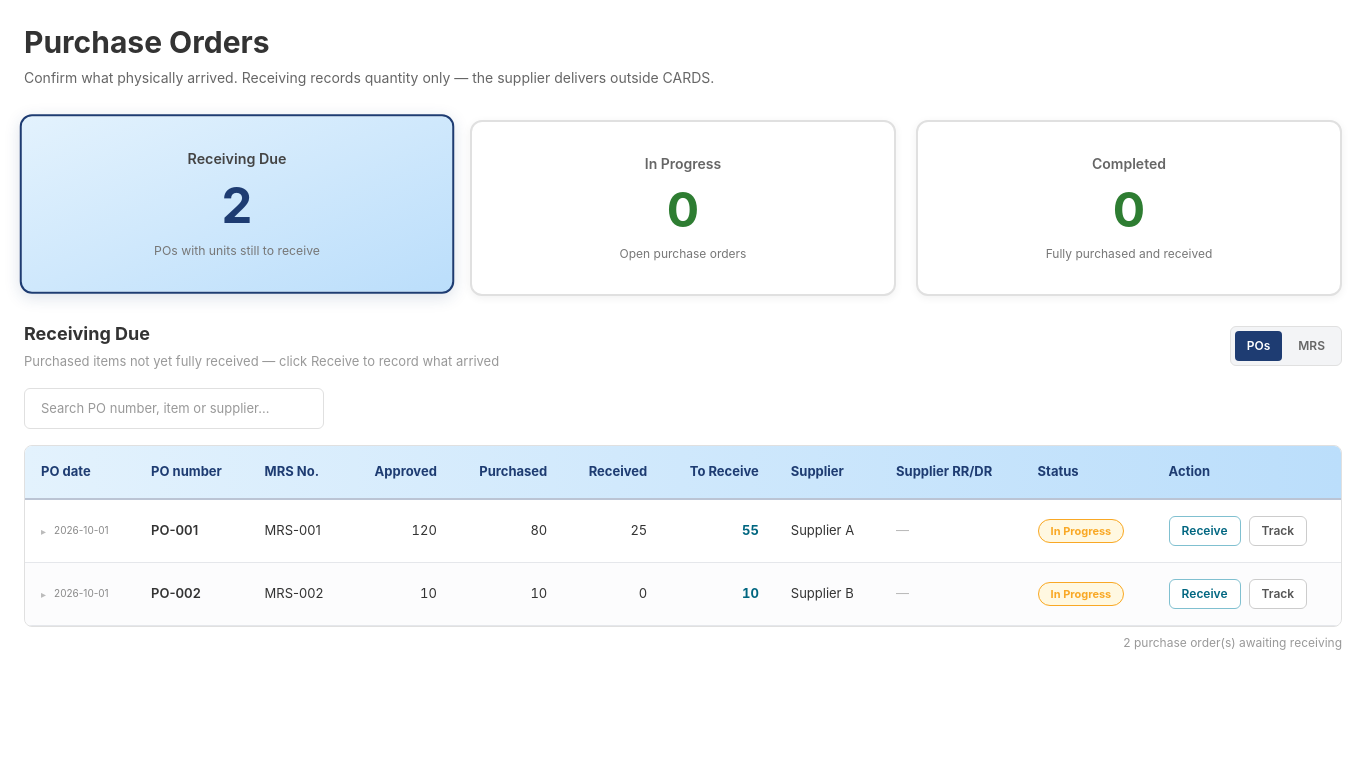
Scenario: Receiving Due is one row per purchase order › expands to the same item columns the quantity tracker uses
Expected: the text "PO-001" is shown, [135,498,249,562]
Click the row named "Expand to see its items".
click(683, 530)  # box [25,498,1341,562]
(page scrolled)
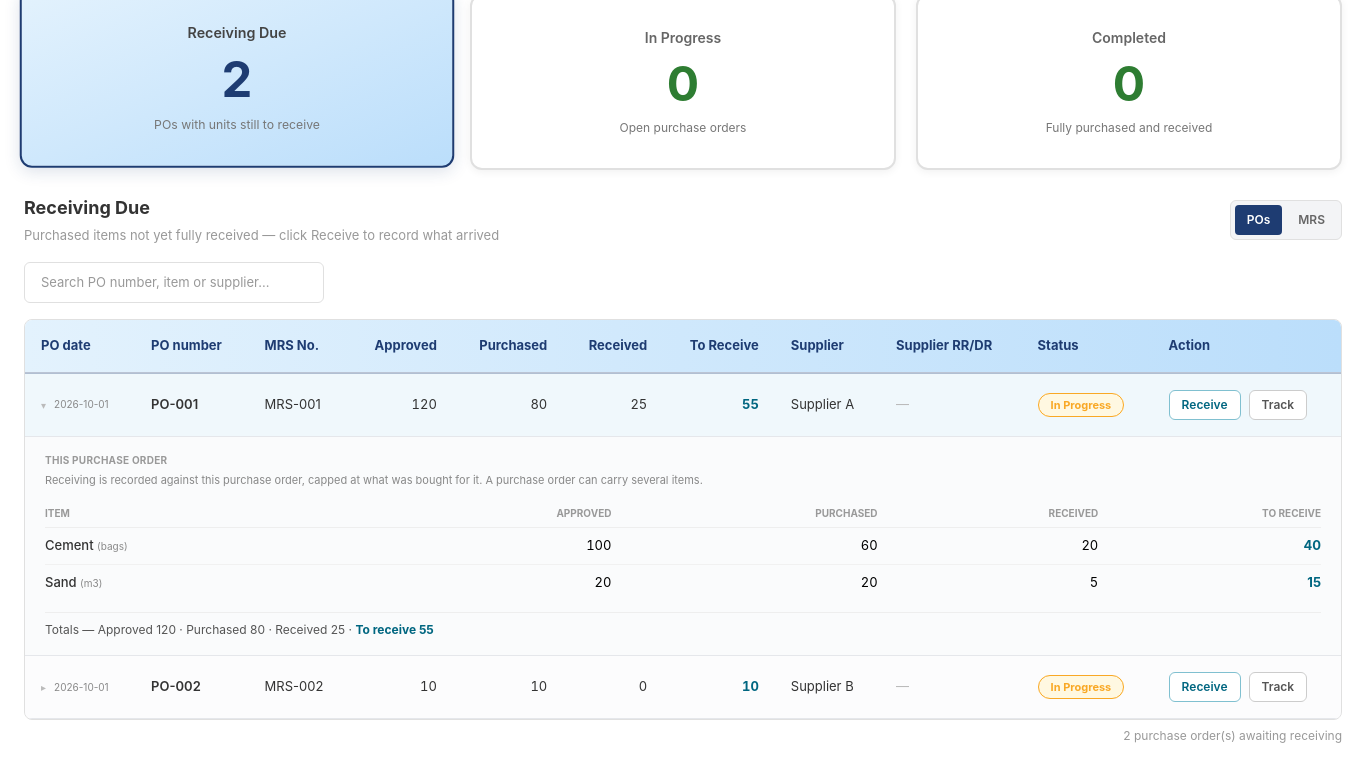
Now the column heading "ITEM" is shown, box [45,500,384,528]
Now the column heading "APPROVED" is shown, box [384,500,623,528]
Now the column heading "PURCHASED" is shown, box [623,500,890,528]
